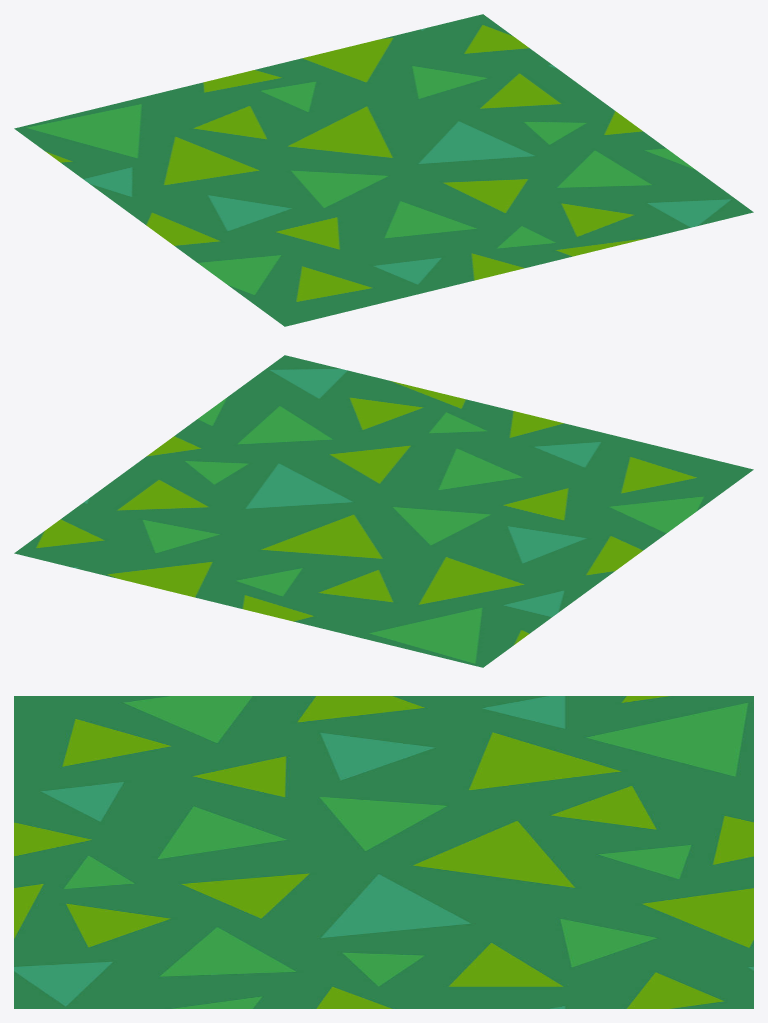
File: Grass Corners Inner.fbx
3 views of the same model, one above another, from view 1: azimuth 30°, elevation 25°; view 2: azimuth 150°, elevation 25°; view 3: azimuth 270°, elevation 25° (orthographic). The views are drawn at different scales.
Visible parts, largest first — view 1: Grass.Corners.Inner, Grass.Corner.Fill.BL, Grass.Corner.Fill.TR, Grass.Corner.Fill.BR, Grass.Corner.Fill.TL; view 2: Grass.Corners.Inner, Grass.Corner.Fill.BL, Grass.Corner.Fill.TR, Grass.Corner.Fill.BR, Grass.Corner.Fill.TL; view 3: Grass.Corners.Inner, Grass.Corner.Fill.BL, Grass.Corner.Fill.BR, Grass.Corner.Fill.TL, Grass.Corner.Fill.TR.
Boxes of the visible parts, x1=… form: Grass.Corners.Inner: x1=44, y1=27, x2=723, y2=313; Grass.Corner.Fill.BL: x1=702, y1=190, x2=753, y2=224; Grass.Corner.Fill.TR: x1=14, y1=116, x2=65, y2=150; Grass.Corner.Fill.BR: x1=431, y1=14, x2=512, y2=35; Grass.Corner.Fill.TL: x1=255, y1=305, x2=336, y2=326; Grass.Corners.Inner: x1=41, y1=367, x2=726, y2=655; Grass.Corner.Fill.BL: x1=255, y1=355, x2=336, y2=377; Grass.Corner.Fill.TR: x1=431, y1=645, x2=512, y2=667; Grass.Corner.Fill.BR: x1=14, y1=531, x2=65, y2=565; Grass.Corner.Fill.TL: x1=702, y1=457, x2=753, y2=491; Grass.Corners.Inner: x1=14, y1=696, x2=753, y2=1008; Grass.Corner.Fill.BL: x1=14, y1=974, x2=96, y2=1008; Grass.Corner.Fill.BR: x1=671, y1=974, x2=753, y2=1008; Grass.Corner.Fill.TL: x1=14, y1=696, x2=96, y2=730; Grass.Corner.Fill.TR: x1=671, y1=696, x2=753, y2=730.
Size of the model in its own units: 200 by 3.26e-05 by 200.
